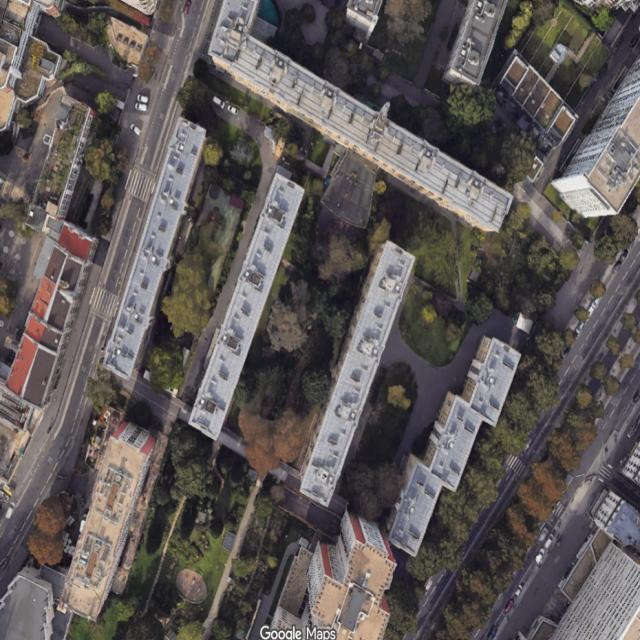immeuble: (197, 21, 519, 234), (184, 172, 308, 441), (296, 241, 418, 507), (99, 117, 208, 381), (55, 417, 162, 623), (375, 451, 448, 557), (416, 392, 487, 491), (457, 335, 522, 427)
